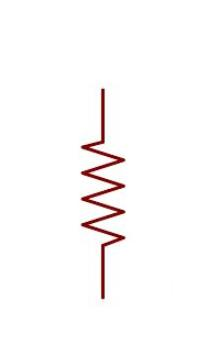resistor: (61, 105, 137, 267)
